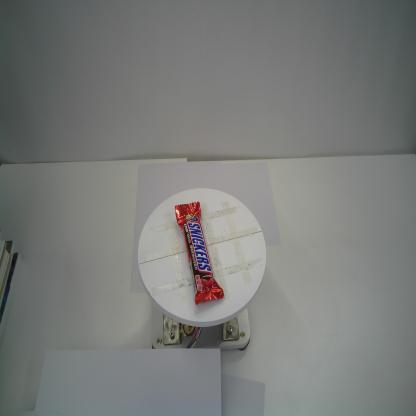Chocolate: (174, 199, 226, 309)
